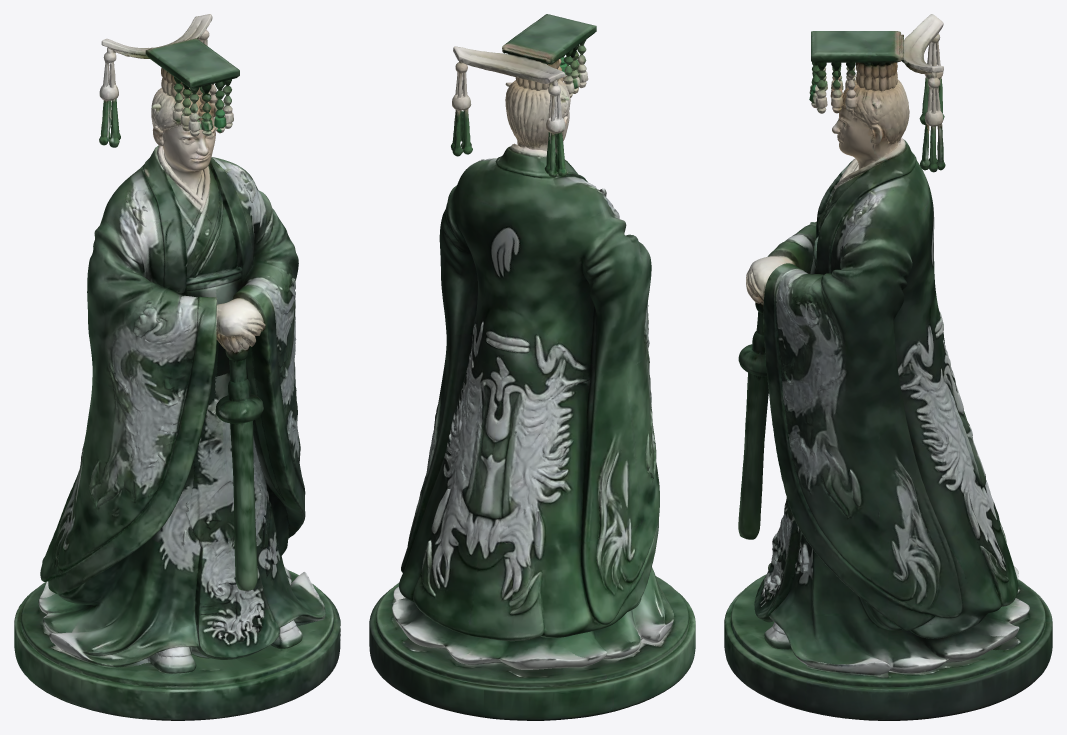
The model's file is king_white.glb.
3 views of the same model, side by side, from view 1: azimuth 30°, elevation 25°; view 2: azimuth 150°, elevation 25°; view 3: azimuth 270°, elevation 25° (orthographic).
Parts seen in each view (by area): view 1: tmp_81zbp2vobj; view 2: tmp_81zbp2vobj; view 3: tmp_81zbp2vobj.
Part boxes in pixels (x1,y1,x2,y2): tmp_81zbp2vobj: [14, 14, 340, 720]; tmp_81zbp2vobj: [369, 14, 695, 720]; tmp_81zbp2vobj: [724, 14, 1052, 720].
Bounding box in the file's own units: 0.485 × 1 × 0.4851.
Materials: 1 (1 with a texture image).
